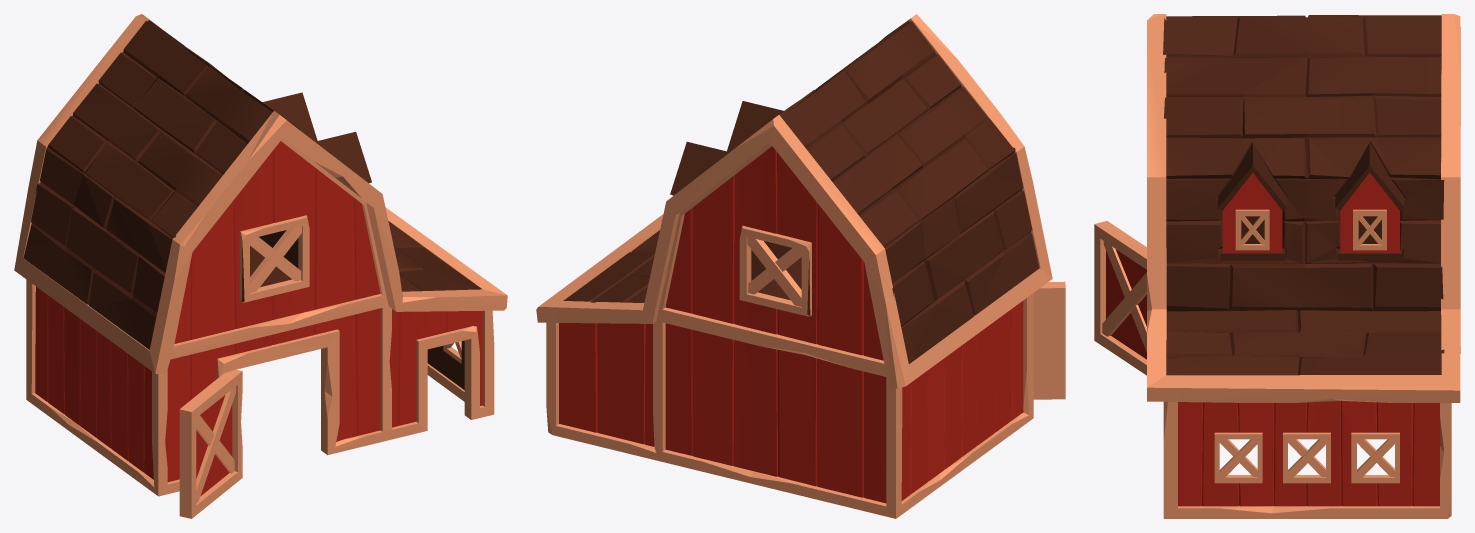
File: Stable_2.fbx
3 renders of one model, left to right at view 1: azimuth 30°, elevation 25°; view 2: azimuth 150°, elevation 25°; view 3: azimuth 270°, elevation 25°, orthographic. The views are drawn at different scales.
Visible parts, largest first — view 1: Stable_2; view 2: Stable_2; view 3: Stable_2.
Part boxes in pixels (x1,y1,x2,y2): Stable_2: (14,14,507,518); Stable_2: (536,14,1065,518); Stable_2: (1094,14,1460,518).
Size of the model in its own units: 286 by 276 by 236.
